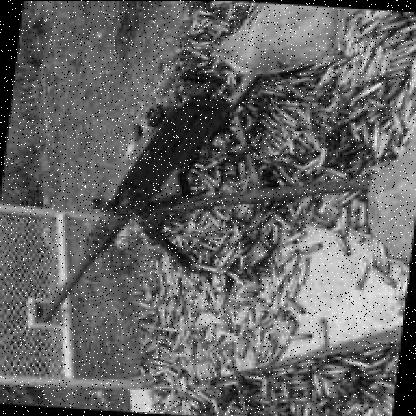rifle: (35, 78, 249, 328)
